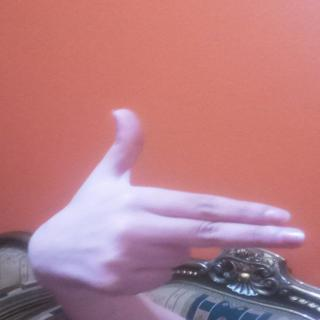GHAYN: (46, 110, 318, 299)
